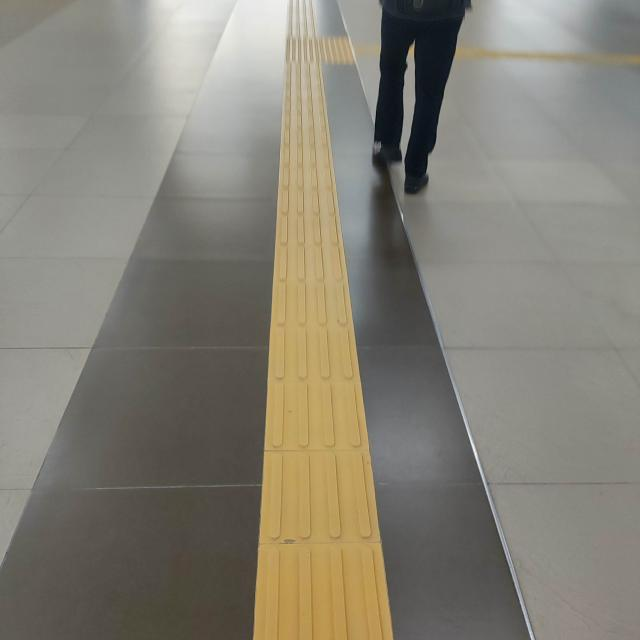lurus: (271, 81, 372, 640)
